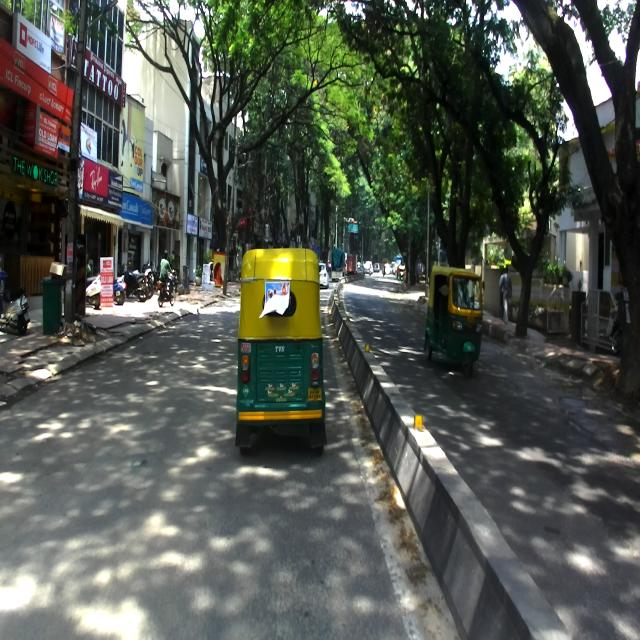auto ahead at: (232, 245, 328, 463), (423, 261, 485, 377)
tree ahead at: (65, 0, 96, 337)
